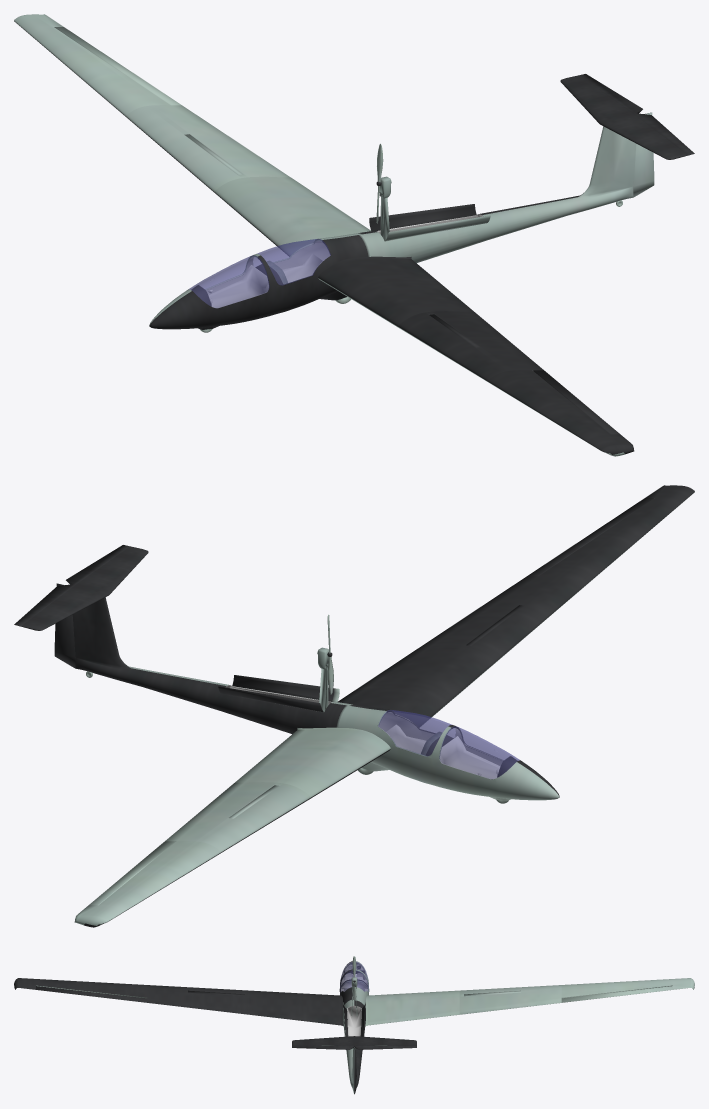
File: ask21mi.obj
3 renders of one model, top to bottom at view 1: azimuth 30°, elevation 25°; view 2: azimuth 150°, elevation 25°; view 3: azimuth 270°, elevation 25°, orthographic. The views are drawn at different scales.
Visible parts, largest first — view 1: fuselage_fuselage.mesh, ailesR0_ailesR0.mesh, ailesL0_ailesL0.mesh, ailesR1_ailesR1.mesh, ailesL1_ailesL1.mesh, ailesR2_ailesR2.mesh, ailesL2_ailesL2.mesh, derive_derive.mesh, vitreA_vitreA.mesh, vitreB_vitreB.mesh, fond.003_fond.mesh.003, porteD_porteD.mesh (+6 smaller); view 2: fuselage_fuselage.mesh, ailesL0_ailesL0.mesh, ailesR0_ailesR0.mesh, ailesL1_ailesL1.mesh, ailesR1_ailesR1.mesh, ailesL2_ailesL2.mesh, ailesR2_ailesR2.mesh, derive_derive.mesh, vitreA_vitreA.mesh, vitreB_vitreB.mesh, fond.003_fond.mesh.003, porteG_porteG.mesh (+6 smaller); view 3: ailesR0_ailesR0.mesh, ailesL0_ailesL0.mesh, ailesR1_ailesR1.mesh, ailesL1_ailesL1.mesh, ailesR2_ailesR2.mesh, ailesL2_ailesL2.mesh, fuselage_fuselage.mesh, derive_derive.mesh, aileronG_aileronG.mesh, aileronD_aileronD.mesh, profondeur_profondeur.mesh, interieur2_interieur2.mesh (+1 smaller).
Part boxes in pixels (<box>): fuselage_fuselage.mesh: <box>149,126,636,329</box>; ailesR0_ailesR0.mesh: <box>214,176,370,256</box>; ailesL0_ailesL0.mesh: <box>318,258,473,327</box>; ailesR1_ailesR1.mesh: <box>126,105,289,192</box>; ailesL1_ailesL1.mesh: <box>398,311,543,381</box>; ailesR2_ailesR2.mesh: <box>14,14,169,116</box>; ailesL2_ailesL2.mesh: <box>488,370,634,456</box>; derive_derive.mesh: <box>560,75,686,159</box>; vitreA_vitreA.mesh: <box>189,255,269,307</box>; vitreB_vitreB.mesh: <box>253,239,330,285</box>; fond.003_fond.mesh.003: <box>208,253,322,307</box>; porteD_porteD.mesh: <box>369,204,476,230</box>; fuselage_fuselage.mesh: <box>72,597,559,800</box>; ailesL0_ailesL0.mesh: <box>338,647,494,727</box>; ailesR0_ailesR0.mesh: <box>235,729,390,798</box>; ailesL1_ailesL1.mesh: <box>419,576,582,663</box>; ailesR1_ailesR1.mesh: <box>165,782,310,852</box>; ailesL2_ailesL2.mesh: <box>539,485,694,587</box>; ailesR2_ailesR2.mesh: <box>74,841,220,927</box>; derive_derive.mesh: <box>22,546,148,630</box>; vitreA_vitreA.mesh: <box>439,726,519,778</box>; vitreB_vitreB.mesh: <box>378,710,455,756</box>; fond.003_fond.mesh.003: <box>386,724,500,778</box>; porteG_porteG.mesh: <box>232,675,339,701</box>; ailesR0_ailesR0.mesh: <box>367,990,459,1025</box>; ailesL0_ailesL0.mesh: <box>249,990,341,1025</box>; ailesR1_ailesR1.mesh: <box>459,985,561,1014</box>; ailesL1_ailesL1.mesh: <box>147,985,249,1014</box>; ailesR2_ailesR2.mesh: <box>561,978,694,997</box>; ailesL2_ailesL2.mesh: <box>14,978,147,997</box>; fuselage_fuselage.mesh: <box>339,961,369,1091</box>; derive_derive.mesh: <box>292,1036,416,1045</box>; aileronG_aileronG.mesh: <box>36,986,147,1002</box>; aileronD_aileronD.mesh: <box>561,986,672,1002</box>; profondeur_profondeur.mesh: <box>292,1045,416,1049</box>; interieur2_interieur2.mesh: <box>347,1006,361,1036</box>.
Size of the model in its own units: 8.34 by 2.37 by 17.01.
